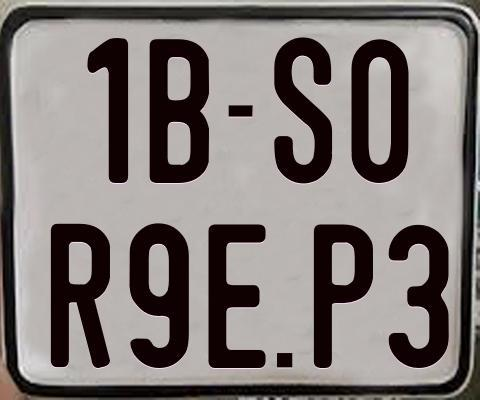0: (351, 38, 413, 184)
1: (84, 35, 128, 182)
3: (387, 225, 449, 371)
9: (128, 221, 188, 370)
B: (146, 36, 212, 184)
E: (207, 221, 267, 366)
P: (313, 223, 374, 370)
R: (48, 222, 111, 371)
S: (274, 37, 338, 189)
